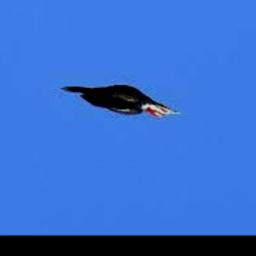Woodpecker: (62, 85, 180, 120)
